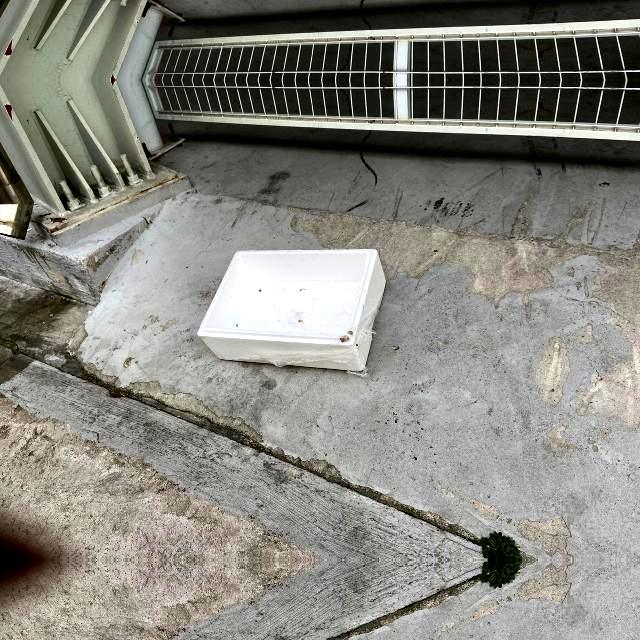Styrofoam: (198, 250, 386, 374), (197, 250, 386, 371)
